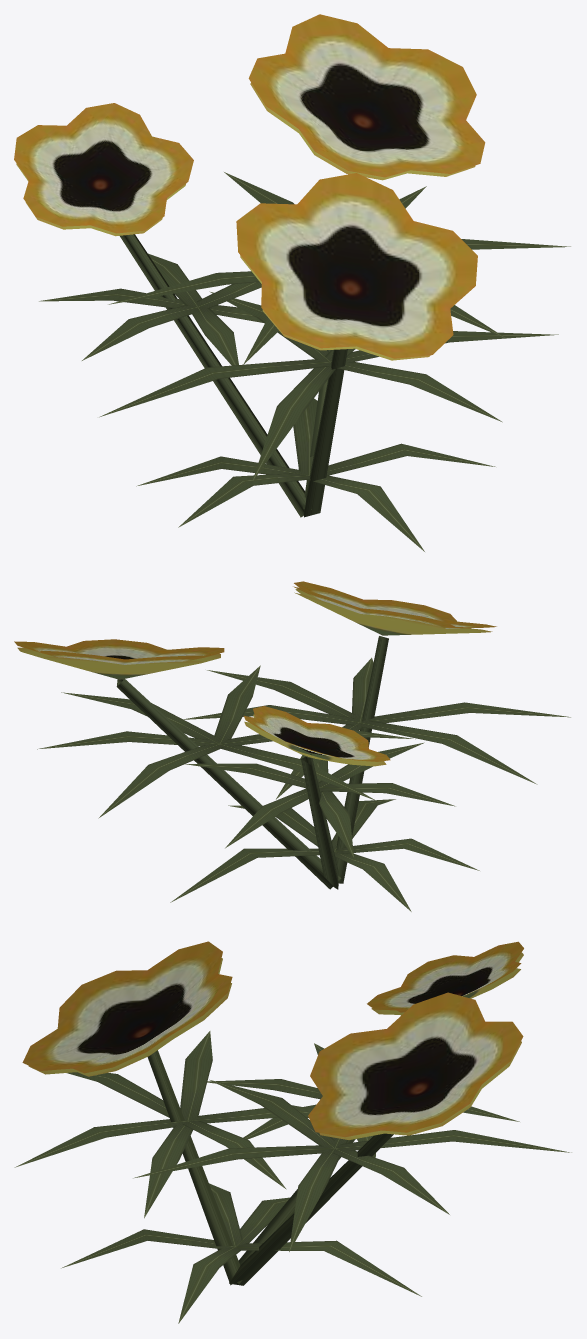
The model's file is flower_yellow_far.glb.
3 renders of one model, top to bottom at view 1: azimuth 30°, elevation 25°; view 2: azimuth 150°, elevation 25°; view 3: azimuth 270°, elevation 25°, orthographic. The views are drawn at different scales.
Visible parts, largest first — view 1: flower_yellow_lod1; view 2: flower_yellow_lod1; view 3: flower_yellow_lod1.
Boxes of the visible parts, left/top/right/bottom form: flower_yellow_lod1: left=14, top=14, right=570, bottom=551; flower_yellow_lod1: left=14, top=581, right=570, bottom=911; flower_yellow_lod1: left=14, top=941, right=571, bottom=1323.
Bounding box in the file's own units: 0.6034 × 0.3888 × 0.6073.
1 material, 1 textured.
